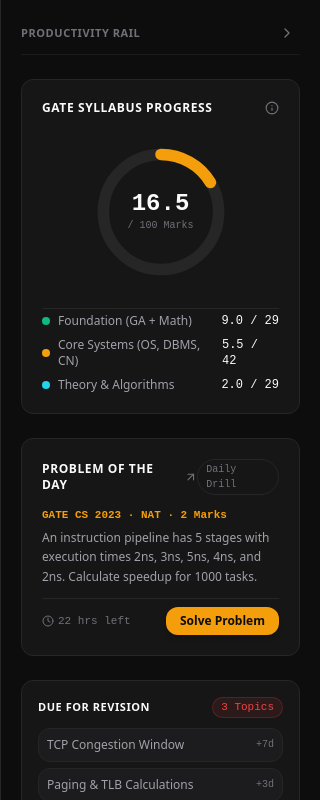
UI Declutter and Navigation Verification › RightSidebar Declutter & Theming › collapses and expands RightSidebar on toggle button clicks
Later steps or results of the test are not shown.
// Click collapse
Click the button with test id "right-sidebar-collapse-btn" at coordinates (287, 33), box [274,20,300,46]
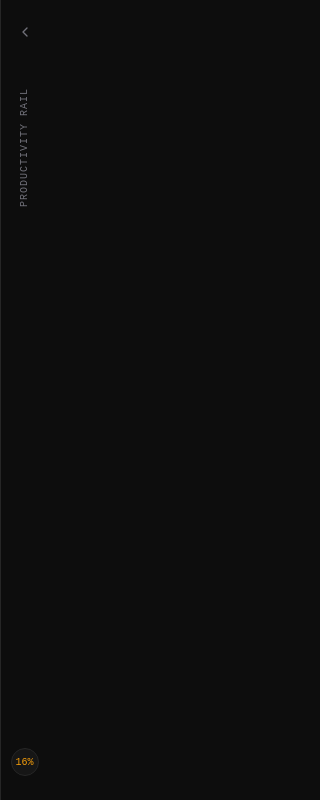
Expected: the element with test id "right-sidebar-collapsed" is shown, [0,0,48,799]
Expected: the button with test id "right-sidebar-expand-btn" is shown, [8,16,40,48]
